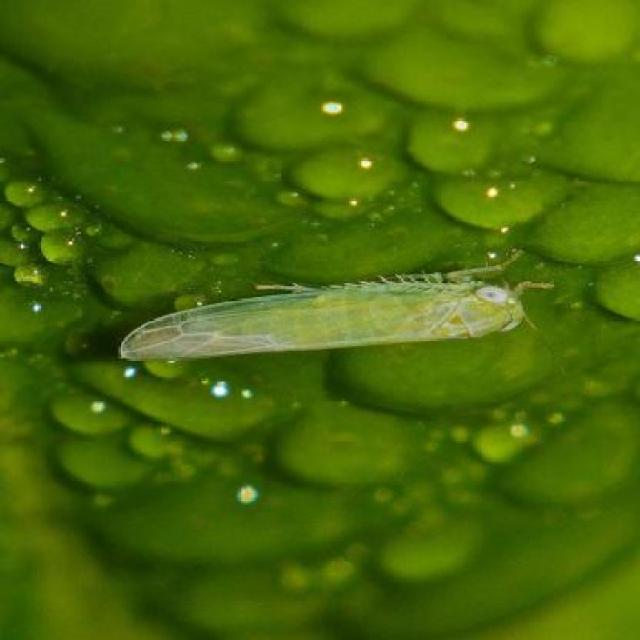green-leafhopper: (121, 269, 537, 363)
